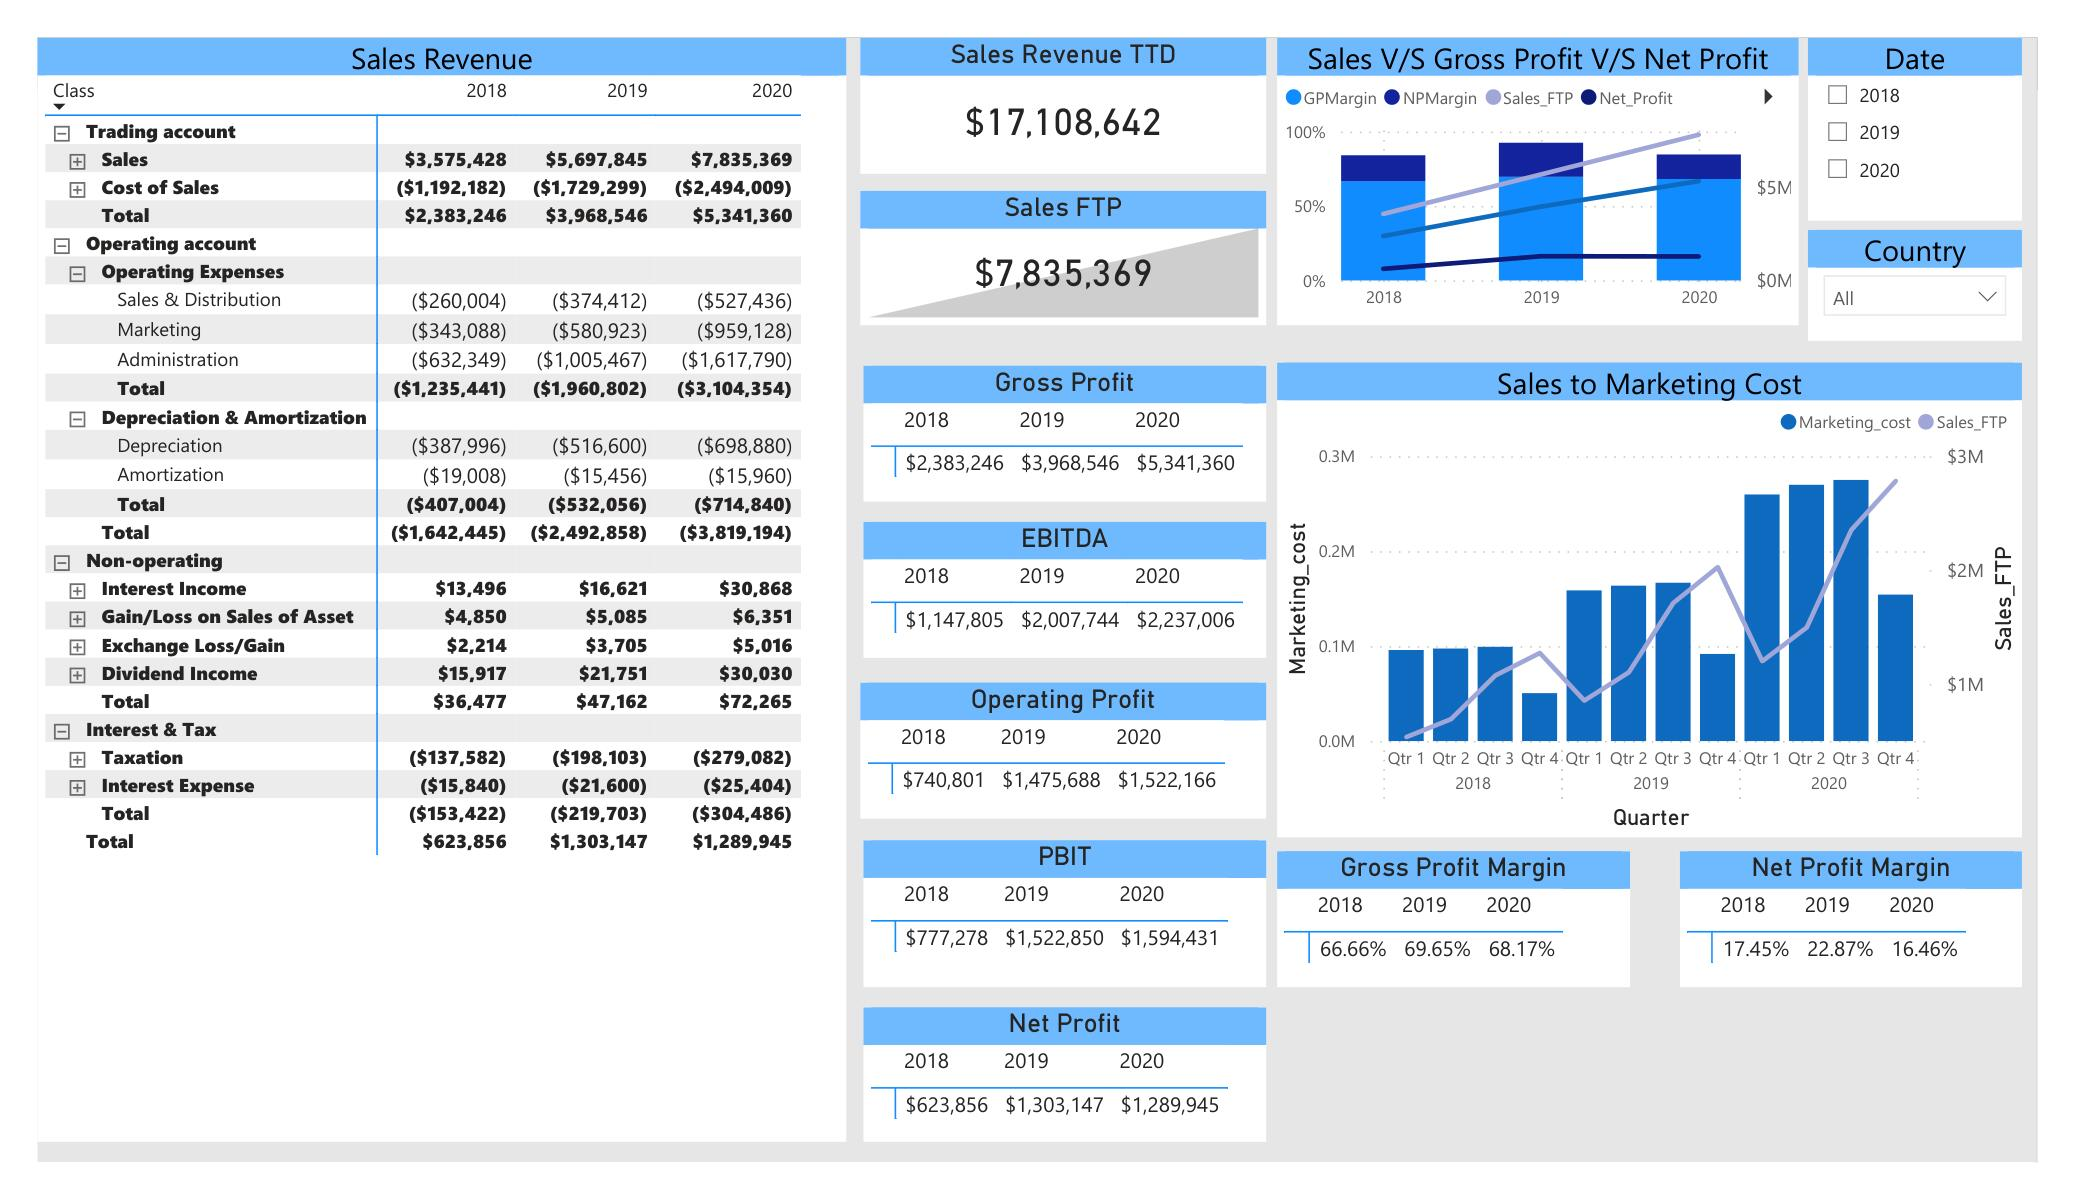

The dashboard page shown, as its layout file describes it:
{"tool":"powerbi","page":{"name":"Page 1","canvas":[1280,720],"ordinal":3},"visuals":[{"type":"pivotTable","title":"Sales Revenue","fields":{"Values":["Sum(tbl_GL.Amount)"],"Rows":["tbl_ChartofAccounts.Class","tbl_ChartofAccounts.SubClass","tbl_ChartofAccounts.SubClass2"],"Columns":["tbl_Calendar.Date.Variation.Date Hierarchy.Year","tbl_Calendar.Date.Variation.Date Hierarchy.Quarter","tbl_Calendar.Date.Variation.Date Hierarchy.Month","tbl_Calendar.Date.Variation.Date Hierarchy.Day"]},"box":[0,0,518.3,707.2],"z":0},{"type":"pivotTable","title":"Gross Profit","fields":{"Columns":["tbl_Calendar.Date.Variation.Date Hierarchy.Year","tbl_Calendar.Date.Variation.Date Hierarchy.Quarter","tbl_Calendar.Date.Variation.Date Hierarchy.Month","tbl_Calendar.Date.Variation.Date Hierarchy.Day"],"Values":["tbl_GL.Gross_Profit"]},"box":[529.3,209.9,257.3,86.7],"z":1},{"type":"pivotTable","title":"Operating Profit","fields":{"Values":["tbl_GL.Operating_Profit"],"Columns":["tbl_Calendar.Date.Variation.Date Hierarchy.Year","tbl_Calendar.Date.Variation.Date Hierarchy.Quarter","tbl_Calendar.Date.Variation.Date Hierarchy.Month","tbl_Calendar.Date.Variation.Date Hierarchy.Day"]},"box":[526.5,413.4,260.1,86.7],"z":2},{"type":"pivotTable","title":"PBIT","fields":{"Values":["tbl_GL.PBIT"],"Columns":["tbl_Calendar.Date.Variation.Date Hierarchy.Year","tbl_Calendar.Date.Variation.Date Hierarchy.Quarter","tbl_Calendar.Date.Variation.Date Hierarchy.Month","tbl_Calendar.Date.Variation.Date Hierarchy.Day"]},"box":[529.3,513.8,257.3,94],"z":3},{"type":"pivotTable","title":"EBITDA","fields":{"Values":["tbl_GL.EBITDA"],"Columns":["tbl_Calendar.Date.Variation.Date Hierarchy.Year","tbl_Calendar.Date.Variation.Date Hierarchy.Quarter","tbl_Calendar.Date.Variation.Date Hierarchy.Month","tbl_Calendar.Date.Variation.Date Hierarchy.Day"]},"box":[529.3,310.3,257.3,86.7],"z":4},{"type":"card","title":"Sales Revenue TTD","fields":{"Values":["tbl_GL.Total_FTP"]},"box":[526.5,0,260.1,86.7],"z":5},{"type":"kpi","title":"Sales FTP","fields":{"Indicator":["tbl_GL.Total_FTP"],"TrendLine":["tbl_Calendar.Date.Variation.Date Hierarchy.Year"]},"box":[526.5,97.6,260.1,86.7],"z":6},{"type":"lineStackedColumnComboChart","title":"Sales V/S Gross Profit V/S Net Profit","fields":{"Category":["tbl_Calendar.Date.Variation.Date Hierarchy.Year","tbl_Calendar.Date.Variation.Date Hierarchy.Quarter","tbl_Calendar.Date.Variation.Date Hierarchy.Month","tbl_Calendar.Date.Variation.Date Hierarchy.Day"],"Y2":["tbl_GL.Sales_FTP","tbl_GL.Net_Profit","tbl_GL.Gross_Profit"],"Y":["tbl_GL.GPMargin","tbl_GL.NPMargin"]},"box":[793.9,0,334,184.3],"z":7},{"type":"slicer","title":"Country","fields":{"Values":["tbl_territory.Country"]},"box":[1134.3,123.2,136.9,71.2],"z":8},{"type":"lineStackedColumnComboChart","title":"Sales to Marketing Cost","fields":{"Category":["tbl_Calendar.Date.Variation.Date Hierarchy.Year","tbl_Calendar.Date.Variation.Date Hierarchy.Quarter","tbl_Calendar.Date.Variation.Date Hierarchy.Month","tbl_Calendar.Date.Variation.Date Hierarchy.Day"],"Y":["tbl_GL.Marketing_cost"],"Y2":["tbl_GL.Sales_FTP"]},"box":[793.9,208.1,477.3,303.9],"z":9},{"type":"slicer","title":"Date","fields":{"Values":["tbl_Calendar.Date.Variation.Date Hierarchy.Year"]},"box":[1134.3,0,136.9,116.8],"z":10},{"type":"pivotTable","title":"Net Profit","fields":{"Values":["tbl_GL.Net_Profit"],"Columns":["tbl_Calendar.Date.Variation.Date Hierarchy.Year","tbl_Calendar.Date.Variation.Date Hierarchy.Quarter","tbl_Calendar.Date.Variation.Date Hierarchy.Month","tbl_Calendar.Date.Variation.Date Hierarchy.Day"]},"box":[529.3,620.5,257.3,86.7],"z":11},{"type":"pivotTable","title":"Gross Profit Margin","fields":{"Columns":["tbl_Calendar.Date.Variation.Date Hierarchy.Year","tbl_Calendar.Date.Variation.Date Hierarchy.Quarter","tbl_Calendar.Date.Variation.Date Hierarchy.Month","tbl_Calendar.Date.Variation.Date Hierarchy.Day"],"Values":["tbl_GL.GPMargin"]},"box":[793.9,521.1,226.3,86.7],"z":12},{"type":"pivotTable","title":"Net Profit Margin","fields":{"Columns":["tbl_Calendar.Date.Variation.Date Hierarchy.Year","tbl_Calendar.Date.Variation.Date Hierarchy.Quarter","tbl_Calendar.Date.Variation.Date Hierarchy.Month","tbl_Calendar.Date.Variation.Date Hierarchy.Day"],"Values":["tbl_GL.NPMargin"]},"box":[1052.2,521.1,219,86.7],"z":13}]}

Visuals, with their boxes in screenshot pixels (x1, y1, x2, y2):
"Sales Revenue" pivotTable: <bbox>38, 38, 847, 1142</bbox>
"Gross Profit" pivotTable: <bbox>865, 365, 1267, 501</bbox>
"Operating Profit" pivotTable: <bbox>860, 683, 1267, 819</bbox>
"PBIT" pivotTable: <bbox>865, 840, 1267, 987</bbox>
"EBITDA" pivotTable: <bbox>865, 522, 1267, 658</bbox>
"Sales Revenue TTD" card: <bbox>860, 38, 1267, 173</bbox>
"Sales FTP" kpi: <bbox>860, 190, 1267, 325</bbox>
"Sales V/S Gross Profit V/S Net Profit" lineStackedColumnComboChart: <bbox>1278, 38, 1800, 325</bbox>
"Country" slicer: <bbox>1810, 230, 2024, 341</bbox>
"Sales to Marketing Cost" lineStackedColumnComboChart: <bbox>1278, 363, 2024, 838</bbox>
"Date" slicer: <bbox>1810, 38, 2024, 220</bbox>
"Net Profit" pivotTable: <bbox>865, 1007, 1267, 1142</bbox>
"Gross Profit Margin" pivotTable: <bbox>1278, 852, 1632, 987</bbox>
"Net Profit Margin" pivotTable: <bbox>1682, 852, 2024, 987</bbox>
